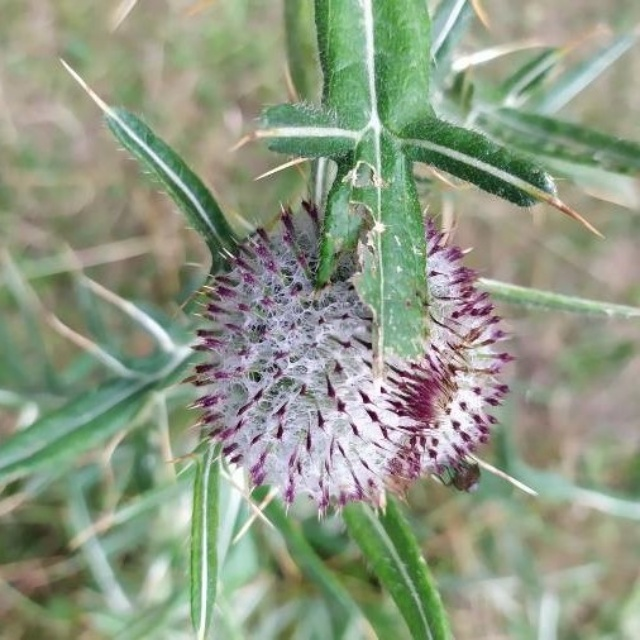obstacle: (81, 16, 587, 625)
